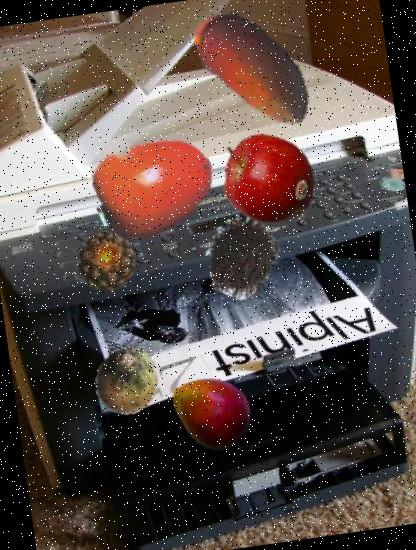Apple: (214, 126, 322, 234)
Cactus: (90, 342, 166, 418)
Hazelnut: (173, 0, 339, 152)
Kaki: (84, 117, 224, 256)
Mango: (164, 364, 260, 459)
Pineapple: (71, 225, 143, 297)
Rambutan: (194, 210, 287, 303)
